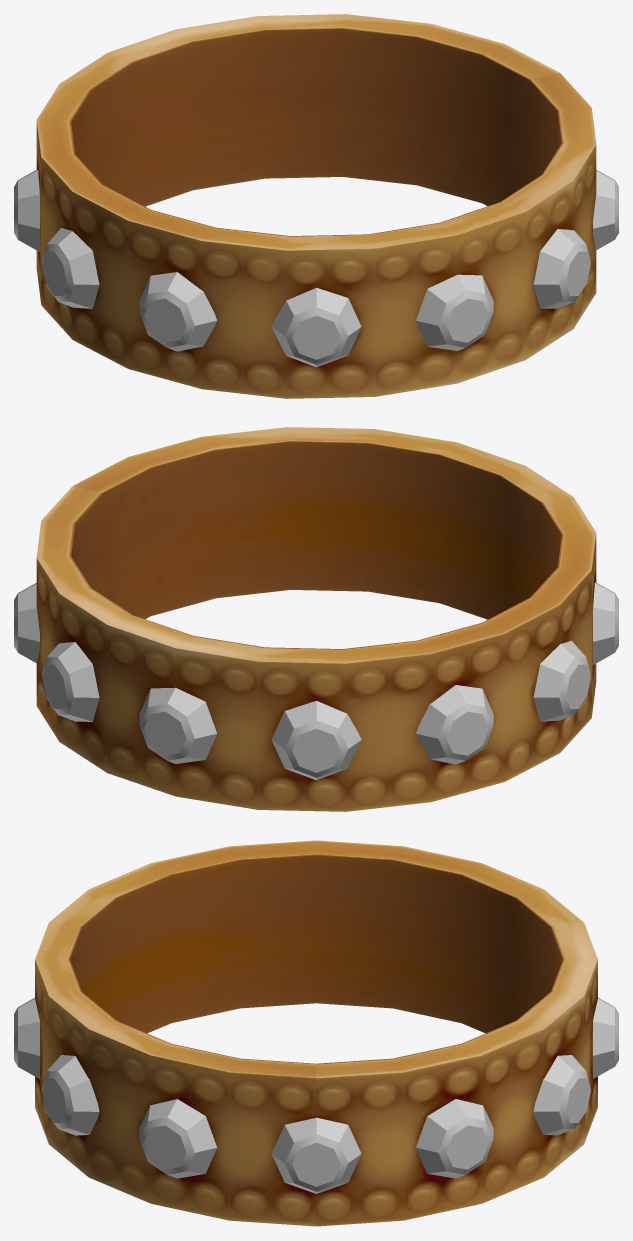
Rendered from ring_copper_12.fbx.
3 views of the same model, one above another, from view 1: azimuth 30°, elevation 25°; view 2: azimuth 150°, elevation 25°; view 3: azimuth 270°, elevation 25° (orthographic).
Parts seen in each view (by area): view 1: ring_copper_12; view 2: ring_copper_12; view 3: ring_copper_12.
Boxes of the visible parts, x1,y1,x2,y2 form: ring_copper_12: (14,14,618,398); ring_copper_12: (14,427,618,811); ring_copper_12: (14,840,618,1226).
Size of the model in its own units: 2.2 by 0.594 by 2.2.
